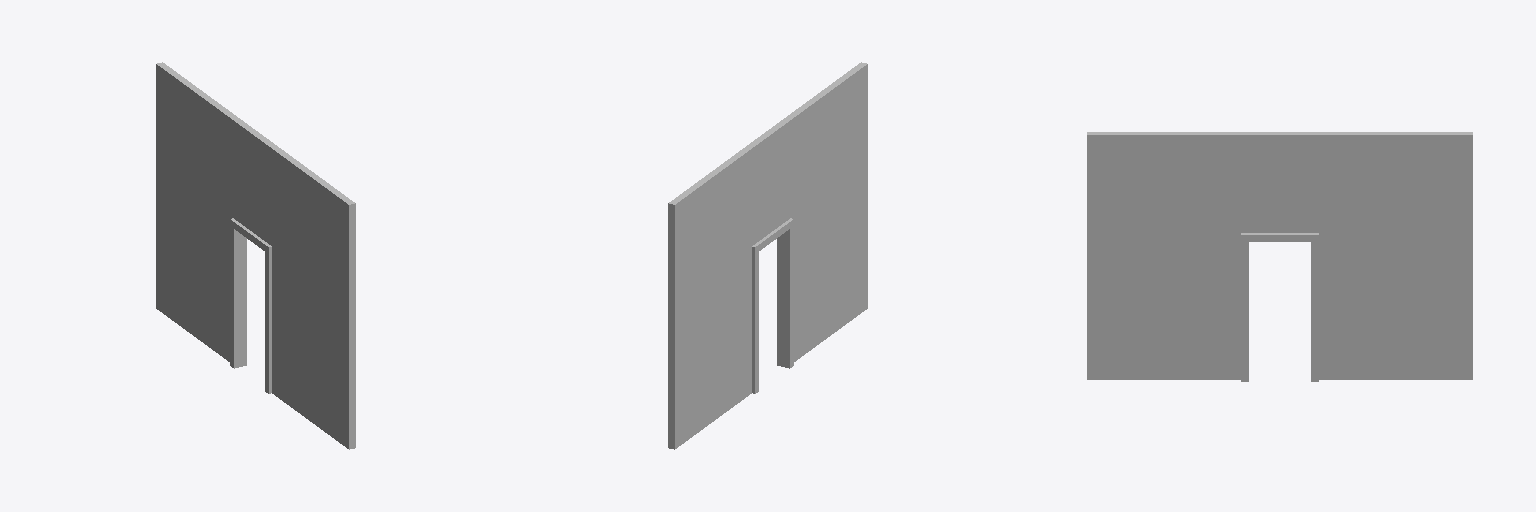
The model's file is WallWithDoor5m.obj.
3 renders of one model, left to right at view 1: azimuth 30°, elevation 25°; view 2: azimuth 150°, elevation 25°; view 3: azimuth 270°, elevation 25°, orthographic.
Visible parts, largest first — view 1: Cube; view 2: Cube; view 3: Cube.
Boxes of the visible parts, x1=… form: Cube: x1=156, y1=62, x2=355, y2=449; Cube: x1=668, y1=62, x2=867, y2=449; Cube: x1=1087, y1=132, x2=1472, y2=381.
Size of the model in its own units: 0.2 by 3.5 by 5.